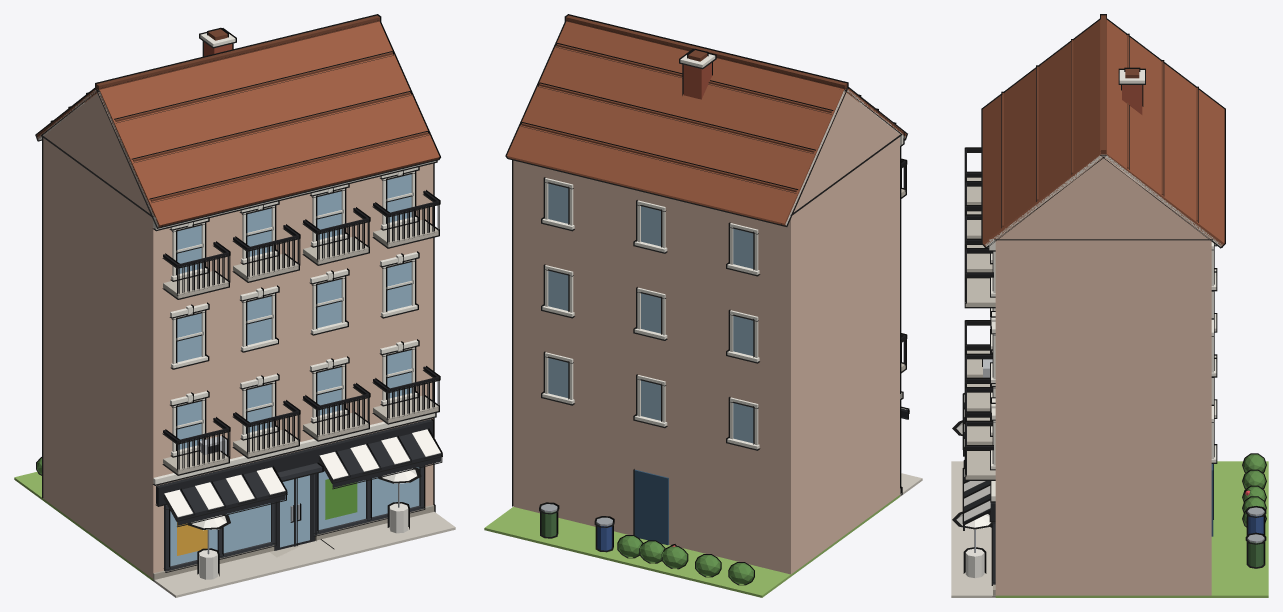
The model's file is Blok_duz_4k_5.fbx.
The picture shows the model from 3 angles, left to right: view 1: azimuth 30°, elevation 25°; view 2: azimuth 150°, elevation 25°; view 3: azimuth 270°, elevation 25°; orthographic projection.
Visible parts, largest first — view 1: Blok_duz_4k_5; view 2: Blok_duz_4k_5; view 3: Blok_duz_4k_5.
Boxes of the visible parts, <box> form: Blok_duz_4k_5: <box>14,14,455,597</box>; Blok_duz_4k_5: <box>484,14,922,597</box>; Blok_duz_4k_5: <box>951,14,1268,597</box>.
Bounding box in the file's own units: 10.14 × 15.96 × 10.
